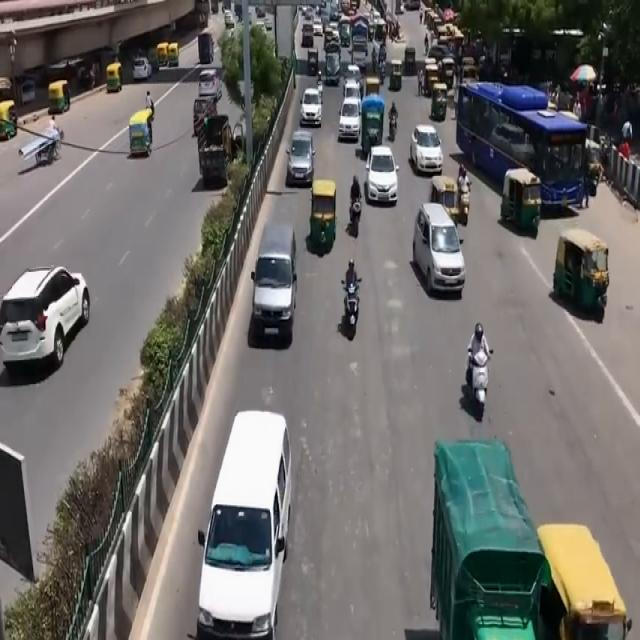BUS: (461, 78, 592, 227), (202, 415, 288, 640)
MOTORCYCLE: (470, 352, 492, 422), (344, 283, 362, 343)
